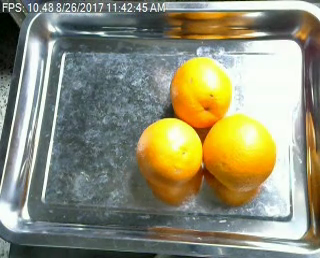Orange: (203, 114, 278, 190), (135, 116, 202, 188), (170, 56, 231, 127)
